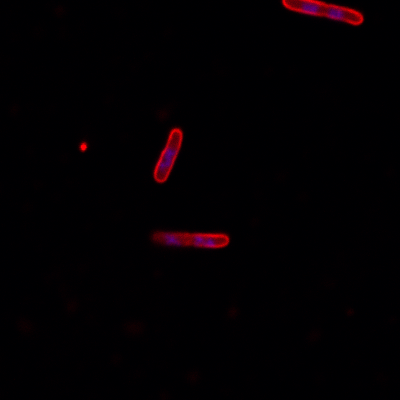Nalidixate: (152, 125, 185, 184)
Oblique: (149, 228, 230, 250)
Vesicle: (75, 138, 89, 154)
